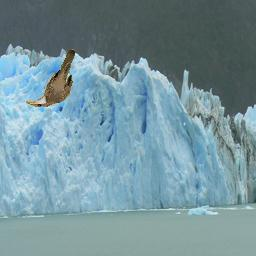Cuckoo: (27, 49, 76, 107)
